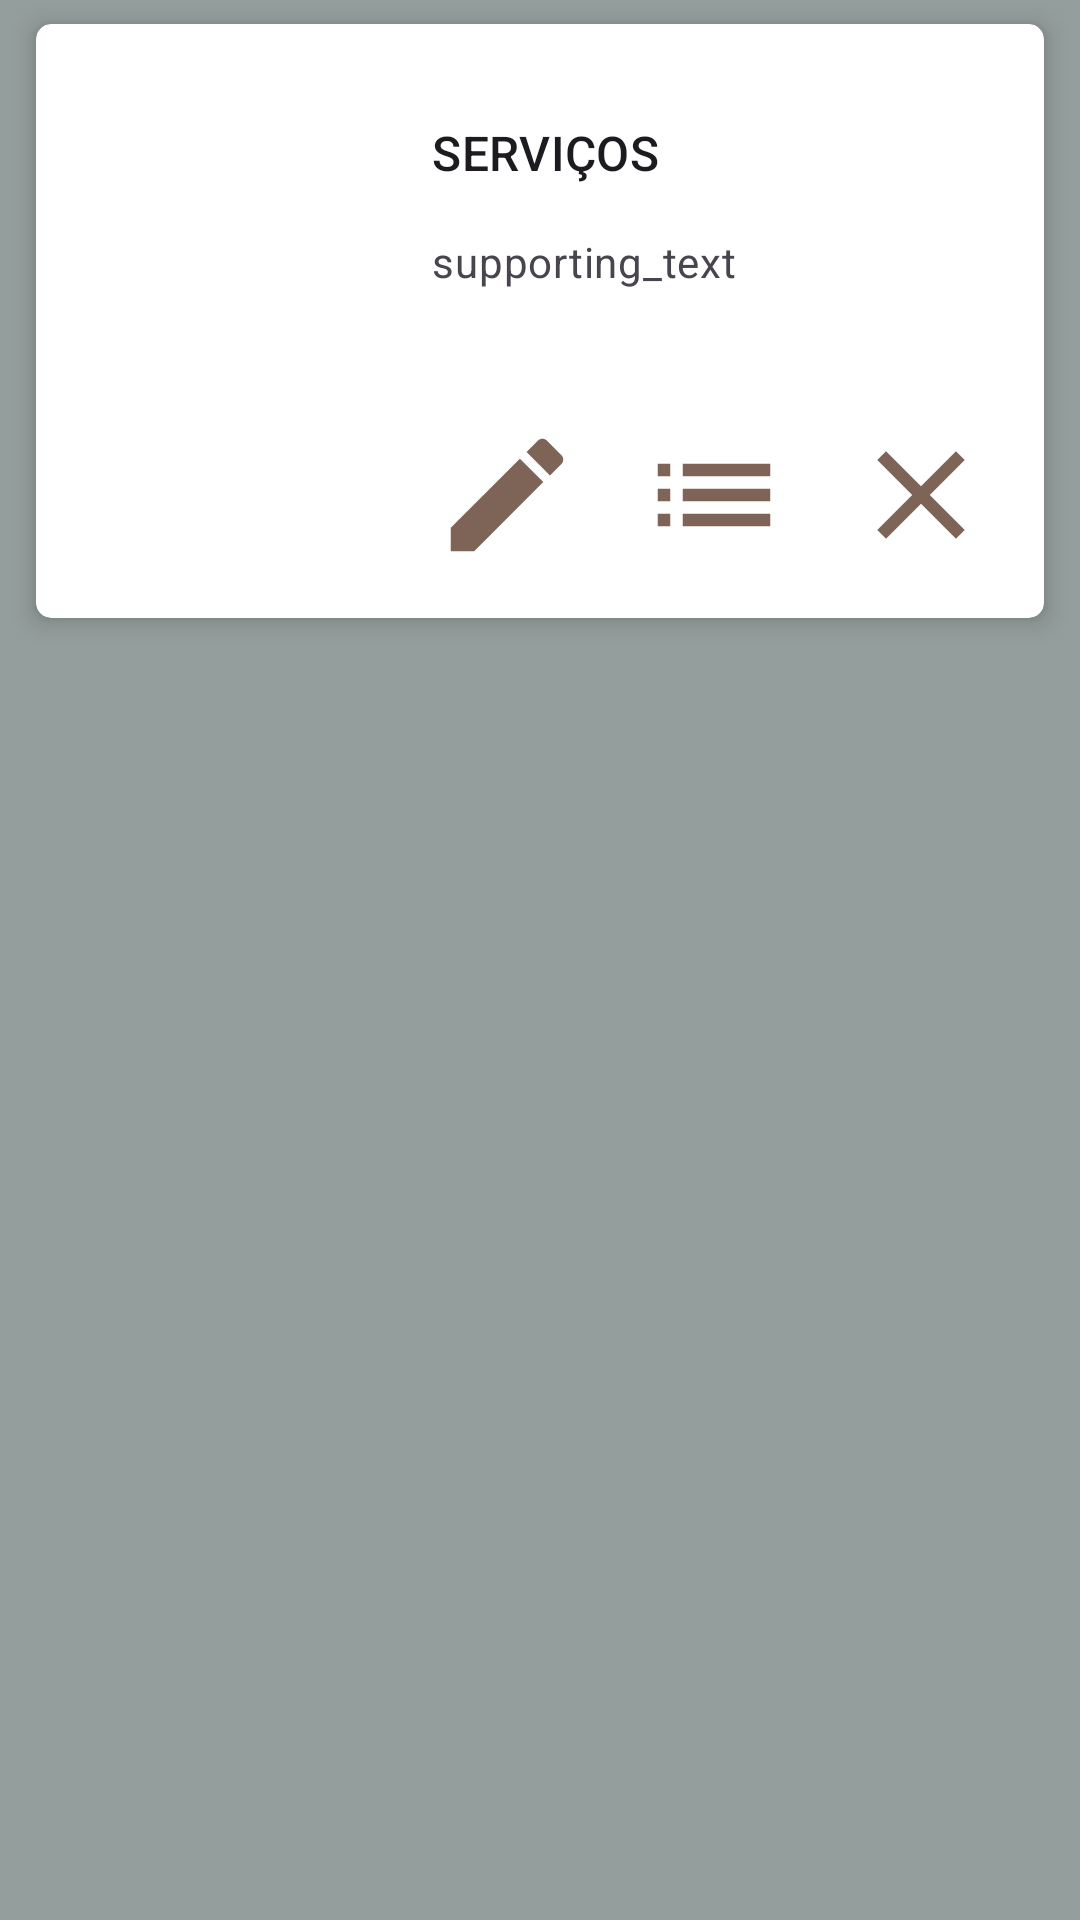

Where to tap for icons on this 1080w x 1920h app screen, as point (x, y):
Delete: point (921, 495)
Details: point (714, 495)
Edit: point (507, 495)
